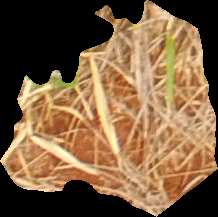soil: (2, 3, 215, 214)
